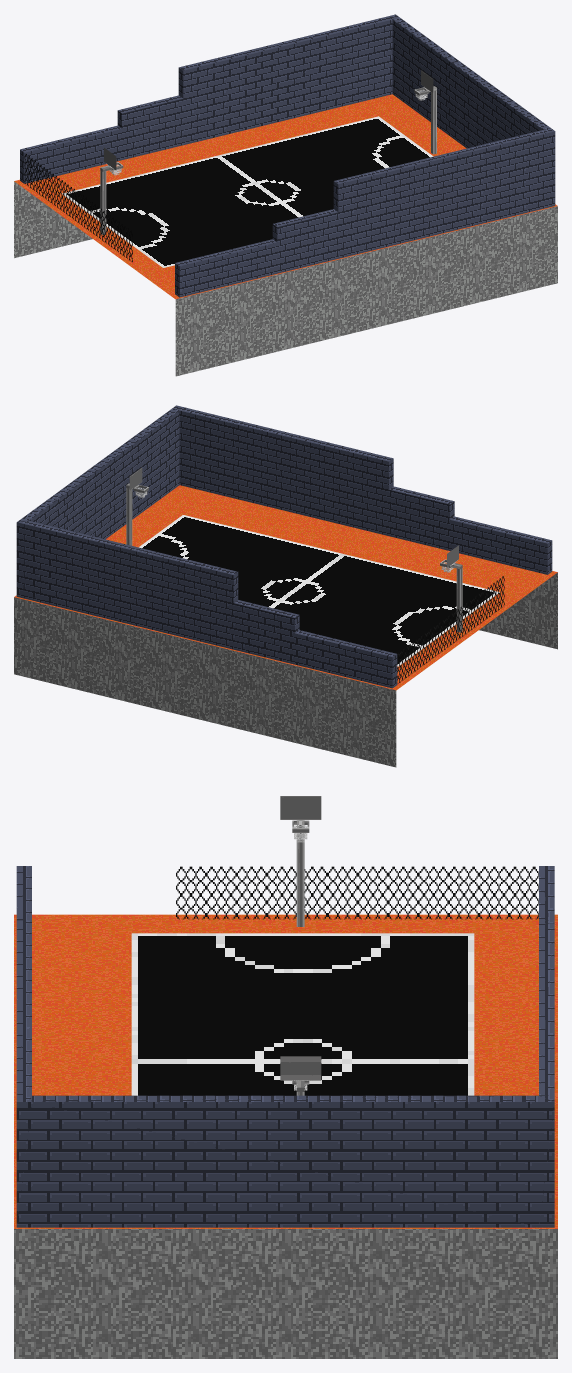
Rendered from BGN_BASKETBALL FIELD.fbx.
3 renders of one model, top to bottom at view 1: azimuth 30°, elevation 25°; view 2: azimuth 150°, elevation 25°; view 3: azimuth 270°, elevation 25°, orthographic. The views are drawn at different scales.
Parts seen in each view (by area): view 1: BGN_BASKETBALL_FIELD; view 2: BGN_BASKETBALL_FIELD; view 3: BGN_BASKETBALL_FIELD.
Part boxes in pixels (<box>): BGN_BASKETBALL_FIELD: <box>14,14,557,376</box>; BGN_BASKETBALL_FIELD: <box>14,405,557,767</box>; BGN_BASKETBALL_FIELD: <box>14,796,557,1358</box>.
Bounding box in the file's own units: 2453 × 964 × 1794.
